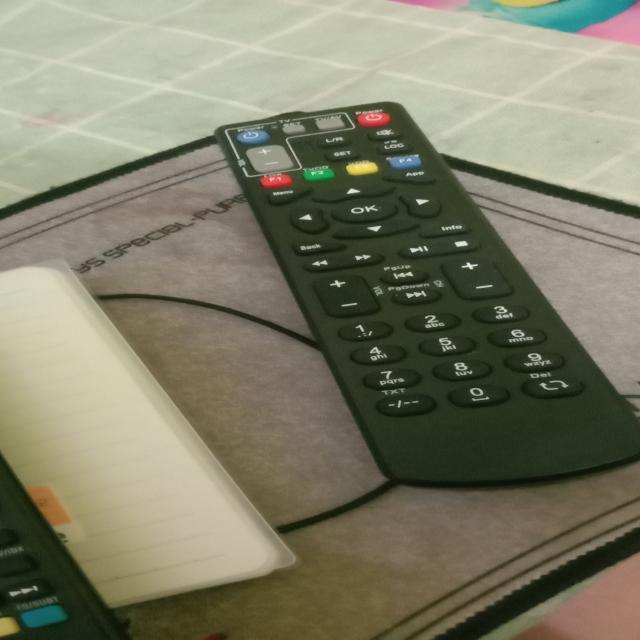remote: (200, 94, 640, 494)
